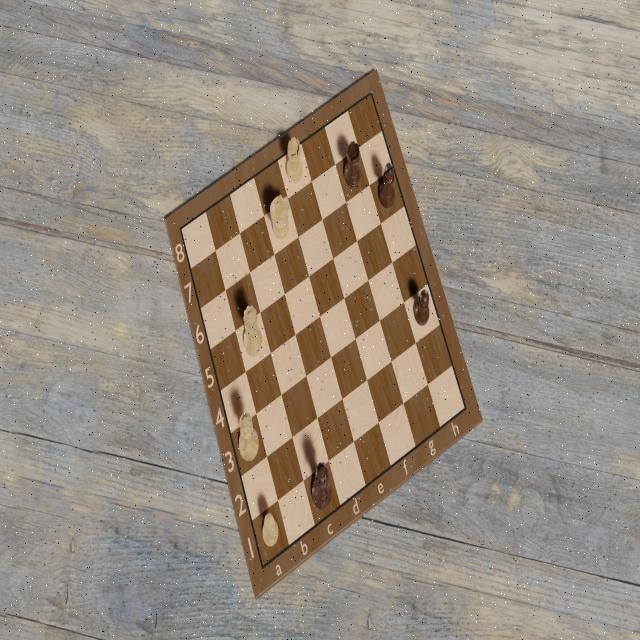black-bishop: (377, 158, 398, 214)
black-king: (310, 459, 333, 513)
black-pawn: (412, 286, 432, 330)
black-rook: (342, 137, 364, 190)
white-king: (234, 409, 261, 464)
white-knight: (267, 195, 292, 242)
white-pawn: (260, 510, 282, 550)
white-queen: (242, 305, 265, 359)
white-rook: (283, 132, 305, 186)
